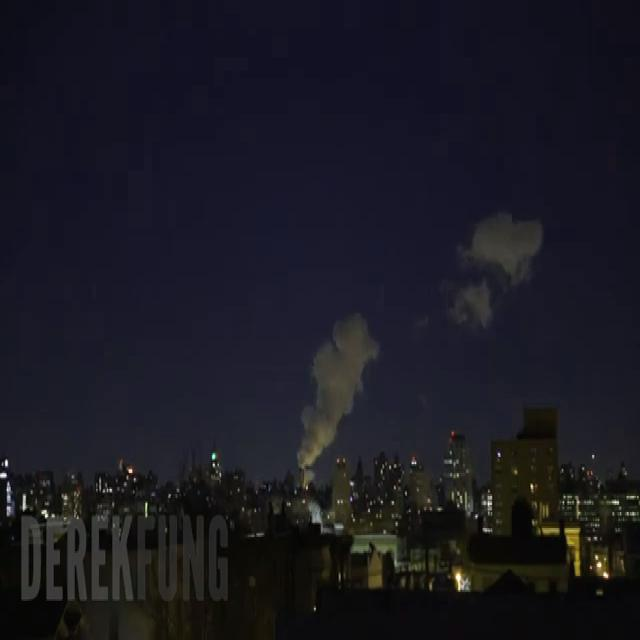smoke: (297, 313, 378, 478)
